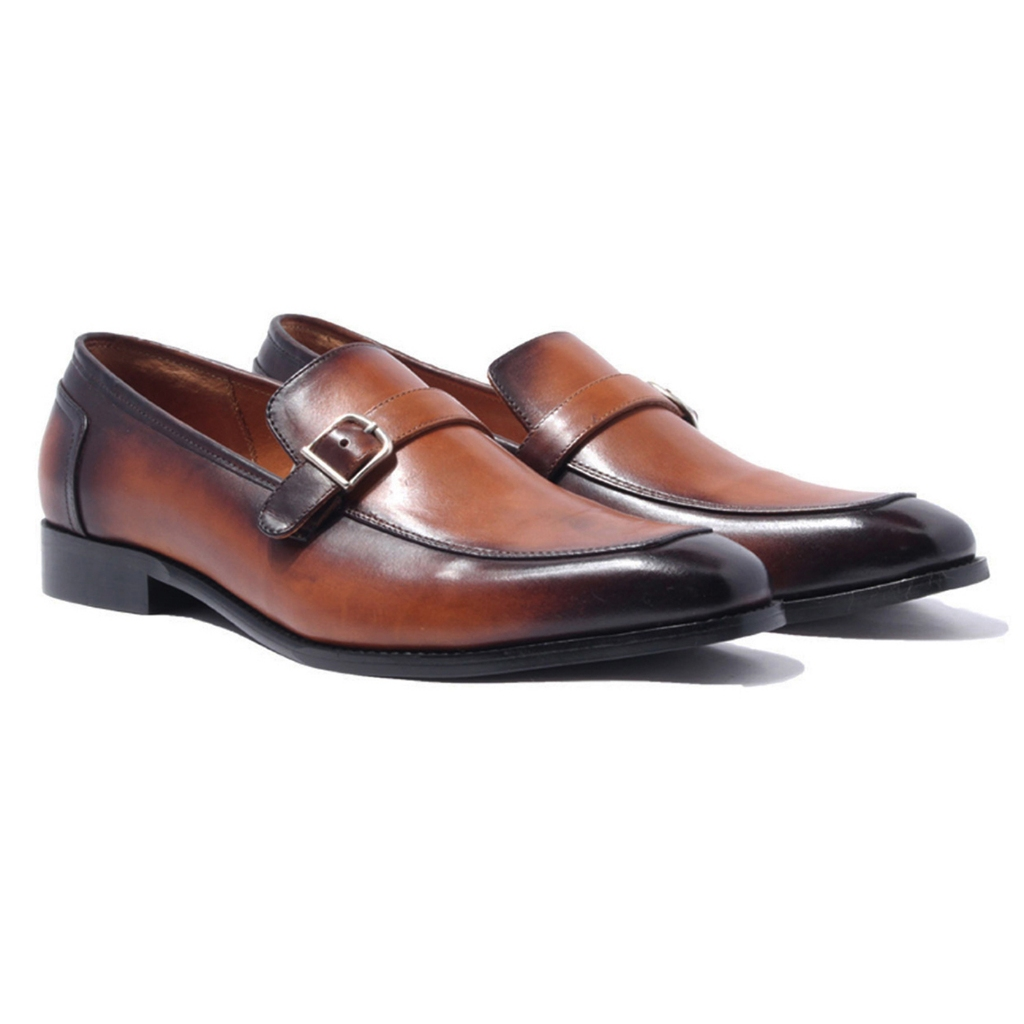loafers: (38, 328, 787, 681), (249, 313, 991, 621)
